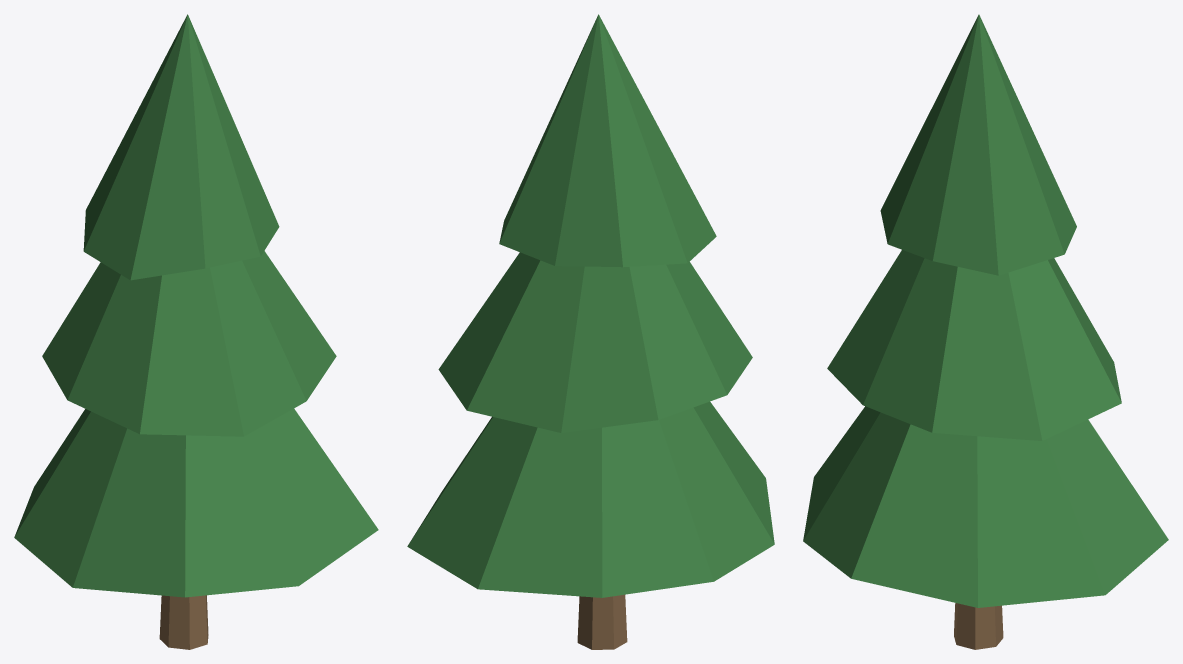
The model's file is tree.glb.
3 views of the same model, side by side, from view 1: azimuth 30°, elevation 25°; view 2: azimuth 150°, elevation 25°; view 3: azimuth 270°, elevation 25° (orthographic).
Visible parts, largest first — view 1: tree; view 2: tree; view 3: tree.
Boxes of the visible parts, x1,y1,x2,y2 form: tree: (14,14,378,649); tree: (407,14,774,649); tree: (803,14,1168,649).
Bounding box in the file's own units: 4.11 × 8.1 × 4.29.
